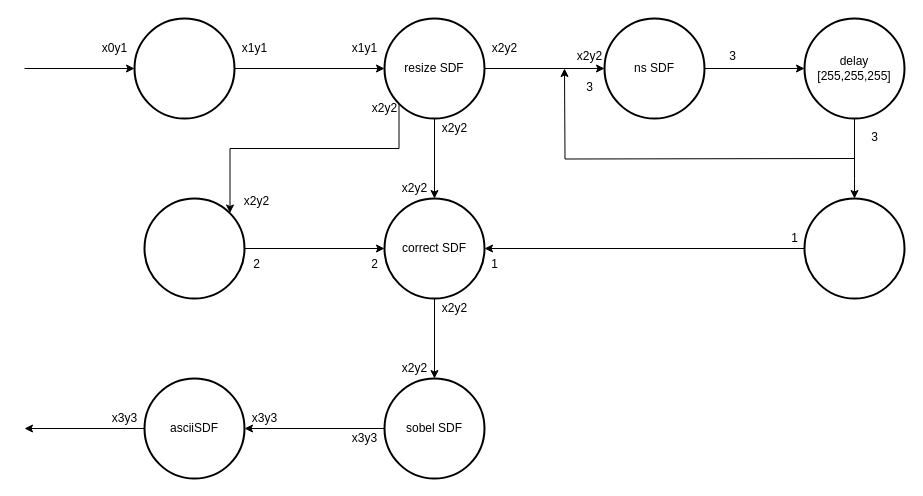
The diagram is 923 pixels wide and 496 high, and some of its shapes have lost their labels. The shapes that lost their labels are listed below. From the top down, each one's box as (x1, y1, x2, y2) in pixels, then its label:
(133, 17, 235, 119): gray SDF
(143, 197, 245, 299): brightness SDF
(803, 197, 905, 299): od SDF
